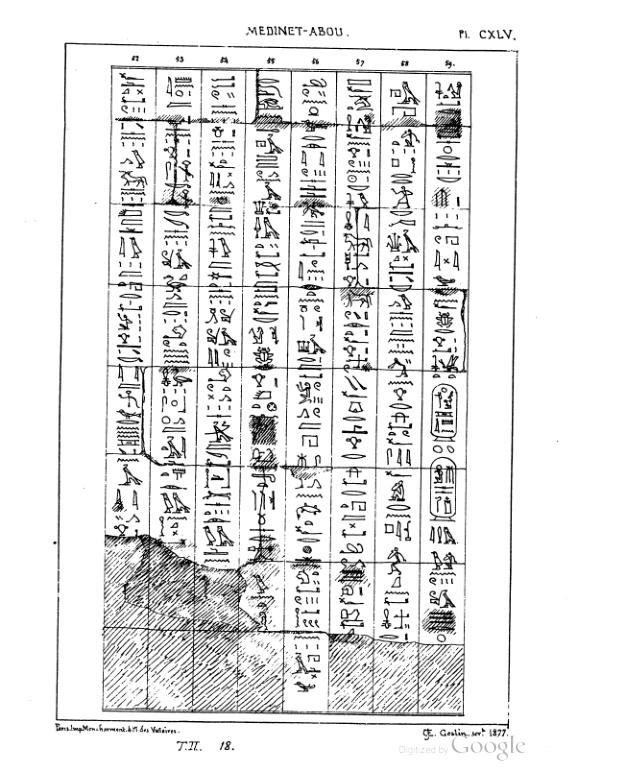circle: (426, 456, 461, 523), (427, 382, 460, 443)
